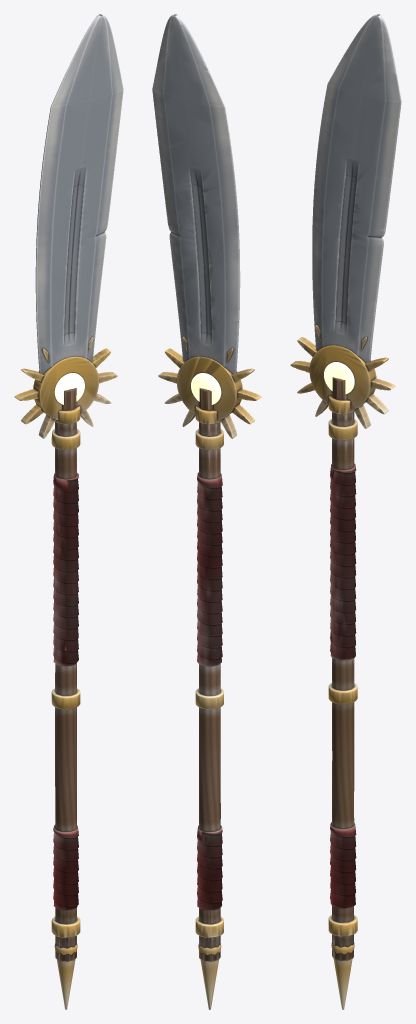
File: weapon_sun_glaive.gltf
3 renders of one model, left to right at view 1: azimuth 30°, elevation 25°; view 2: azimuth 150°, elevation 25°; view 3: azimuth 330°, elevation 25°, orthographic.
Visible parts, largest first — view 1: weapon_sun_glaive; view 2: weapon_sun_glaive; view 3: weapon_sun_glaive.
Part boxes in pixels (x1,y1,x2,y2): weapon_sun_glaive: (14, 14, 123, 1009); weapon_sun_glaive: (152, 14, 261, 1009); weapon_sun_glaive: (290, 14, 401, 1009).
Size of the model in its own units: 0.2156 by 1.9 by 0.0501.
Materials: 1 (1 with a texture image).
